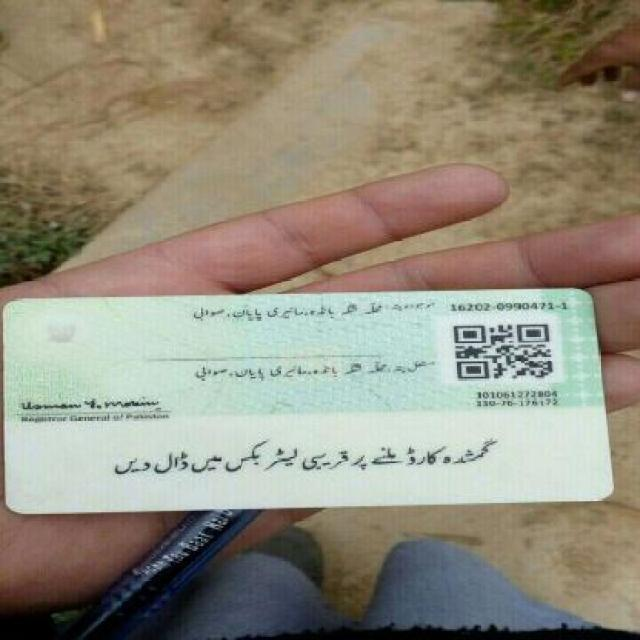Back: (3, 290, 622, 516)
